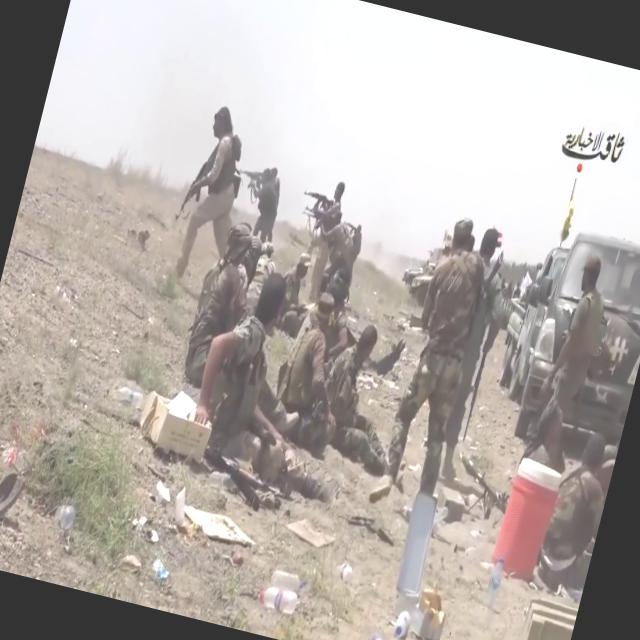long weapon: (458, 322, 498, 447), (172, 148, 218, 227), (298, 186, 338, 212)
